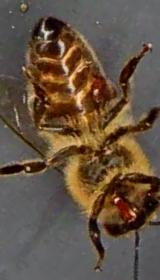varroa_mite: (84, 70, 112, 108)
